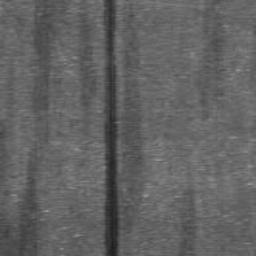Scratches: (104, 0, 120, 256)
